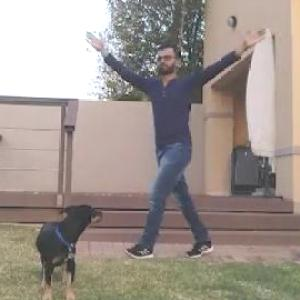takeoff: (80, 22, 267, 261)
